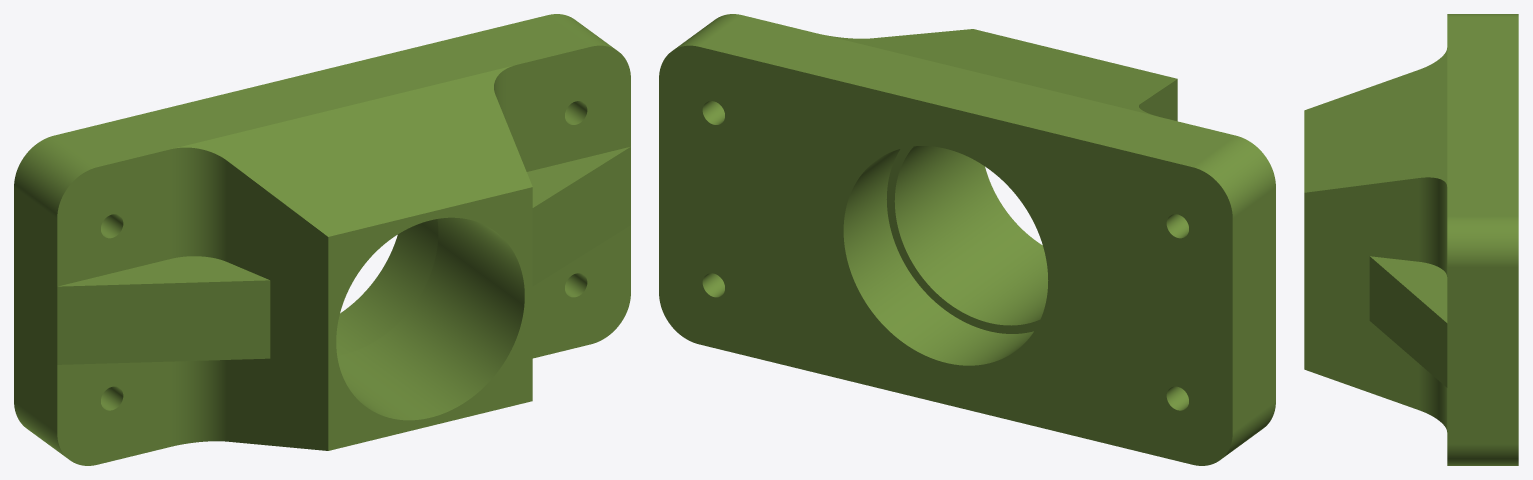
Rendered from sujetador motor guia.obj.
The picture shows the model from 3 angles, left to right: view 1: azimuth 30°, elevation 25°; view 2: azimuth 150°, elevation 25°; view 3: azimuth 270°, elevation 25°; orthographic projection. The views are drawn at different scales.
Parts seen in each view (by area): view 1: Solid1; view 2: Solid1; view 3: Solid1.
Boxes of the visible parts, x1,y1,x2,y2 form: Solid1: (14,14,630,465); Solid1: (659,14,1275,465); Solid1: (1304,14,1518,465).
Size of the model in its own units: 115 by 57 by 45.
